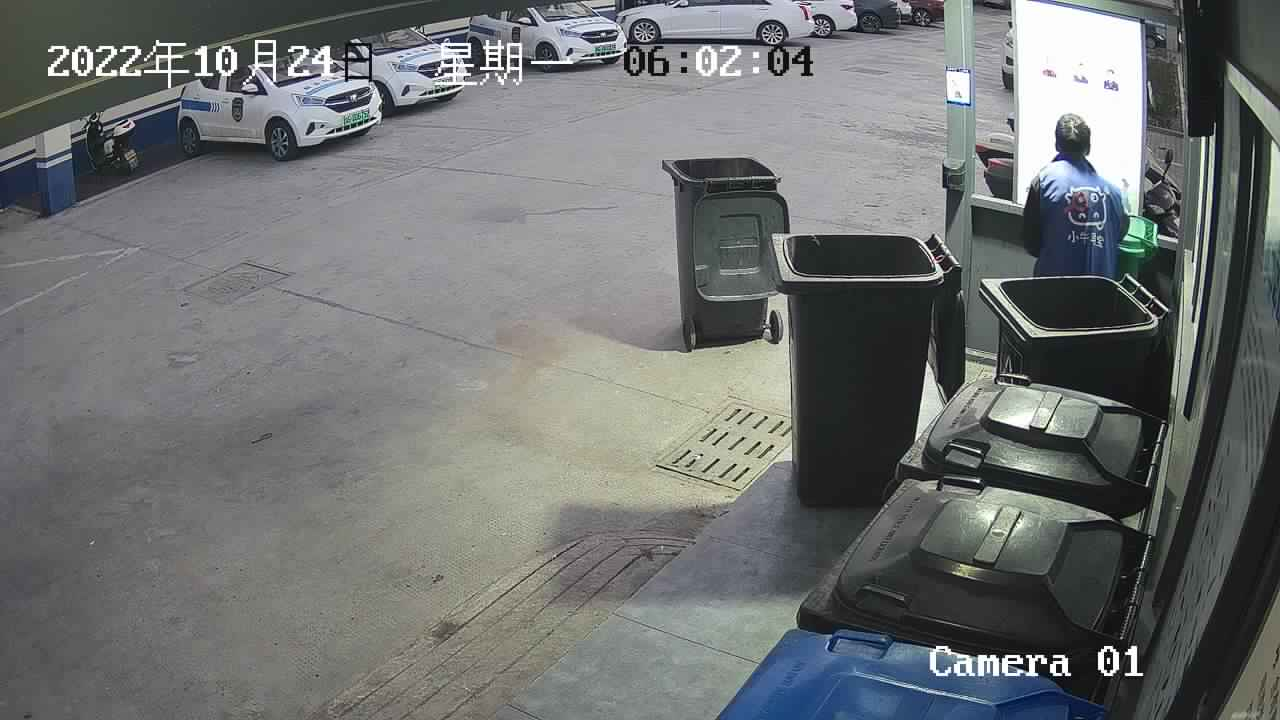worker: (1019, 110, 1132, 279)
